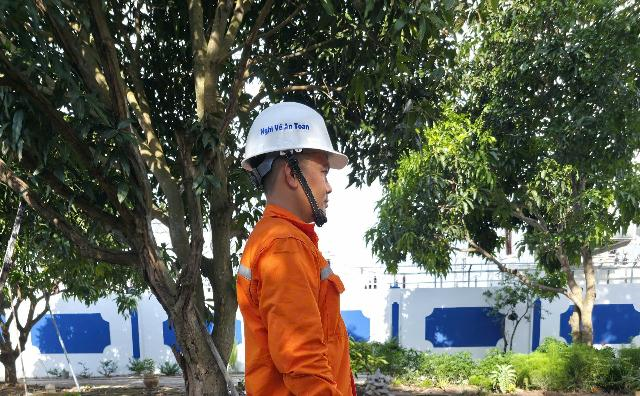helmet: (235, 97, 353, 167)
